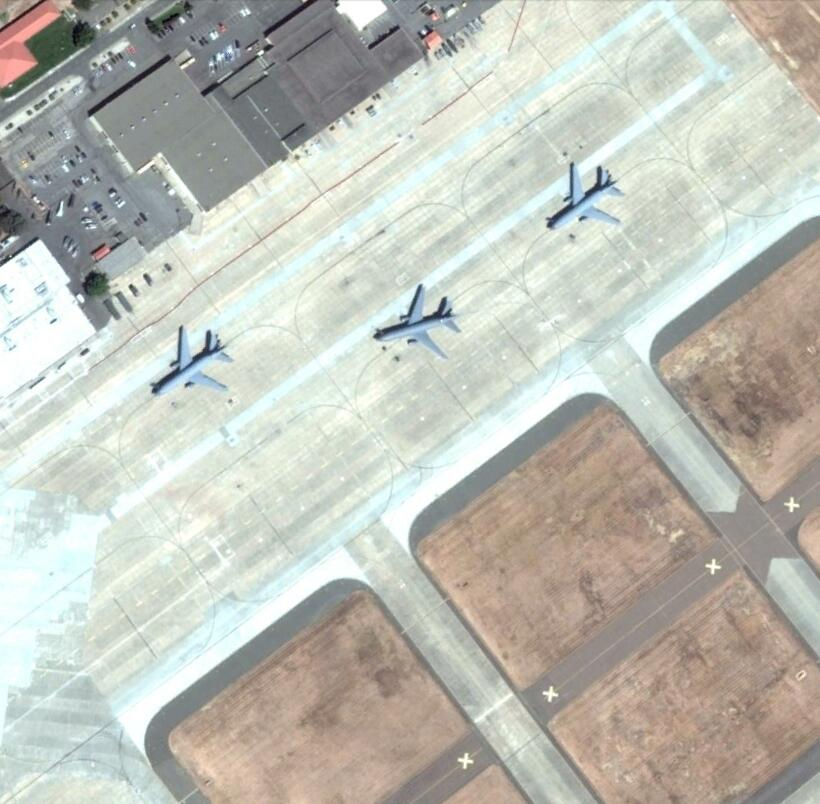A18: (379, 282, 462, 361), (149, 324, 233, 400), (546, 164, 625, 234)
